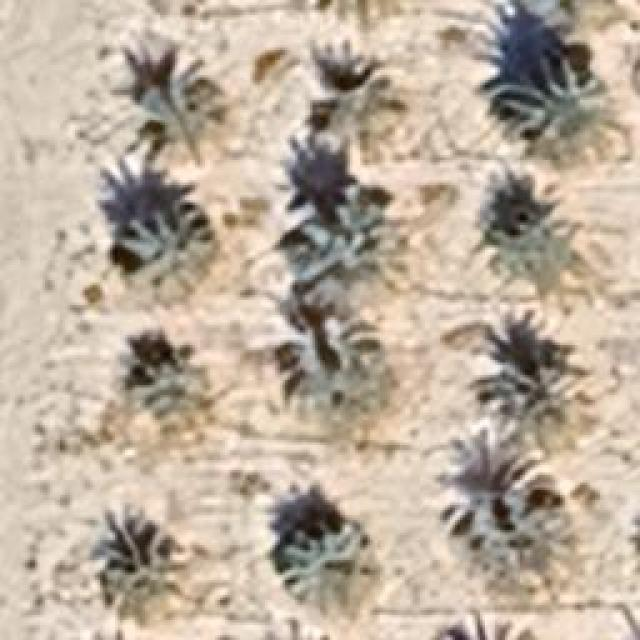PalmTree: (123, 50, 554, 108), (474, 348, 588, 460), (447, 478, 575, 572), (494, 196, 596, 304), (95, 505, 190, 620), (302, 172, 400, 282), (118, 205, 218, 305), (290, 317, 400, 405), (119, 337, 214, 435), (278, 527, 378, 615), (308, 52, 396, 152), (118, 14, 355, 50), (140, 72, 228, 166), (512, 0, 622, 35), (434, 612, 548, 638)
